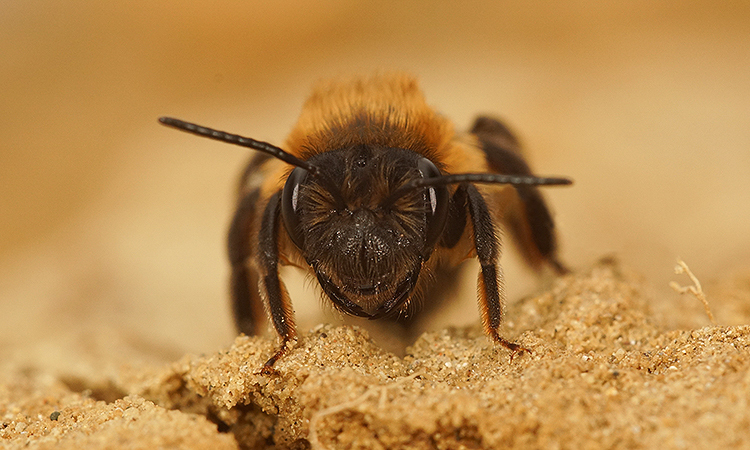not_bumblebee: (158, 69, 574, 370)
